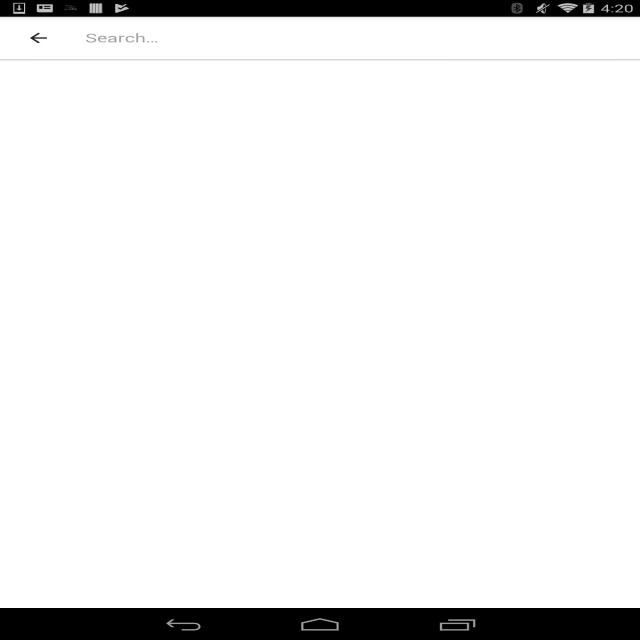button: (21, 25, 62, 50)
field: (6, 19, 638, 58)
